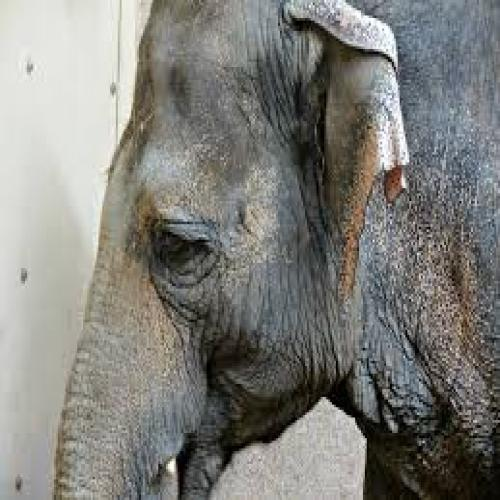asian_elephant-endangered: (50, 0, 500, 490)
